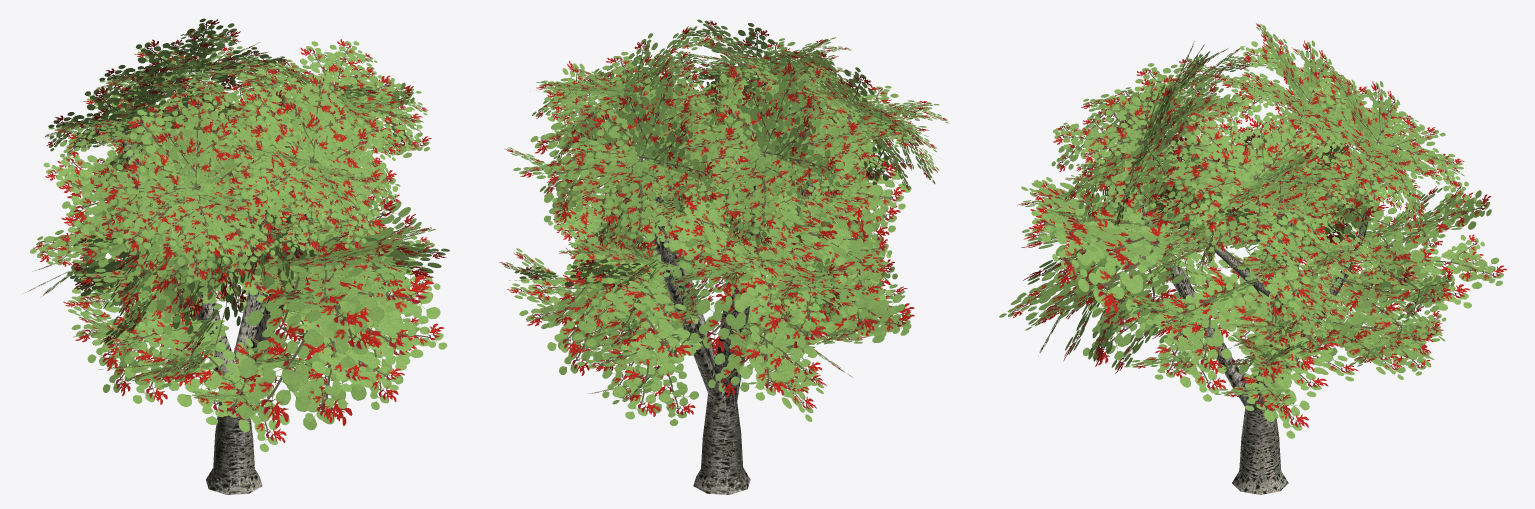
File: BUCARO_VINTEGRACION.fbx
3 renders of one model, left to right at view 1: azimuth 30°, elevation 25°; view 2: azimuth 150°, elevation 25°; view 3: azimuth 270°, elevation 25°, orthographic. The views are drawn at different scales.
Parts seen in each view (by area): view 1: bucaro_LOD0; view 2: bucaro_LOD0; view 3: bucaro_LOD0.
Part boxes in pixels (x1,y1,x2,y2): bucaro_LOD0: (21, 18, 449, 494); bucaro_LOD0: (499, 19, 948, 494); bucaro_LOD0: (999, 23, 1506, 494).
Size of what is drawn, in the model's own units: 20.65 by 23.12 by 26.65.
